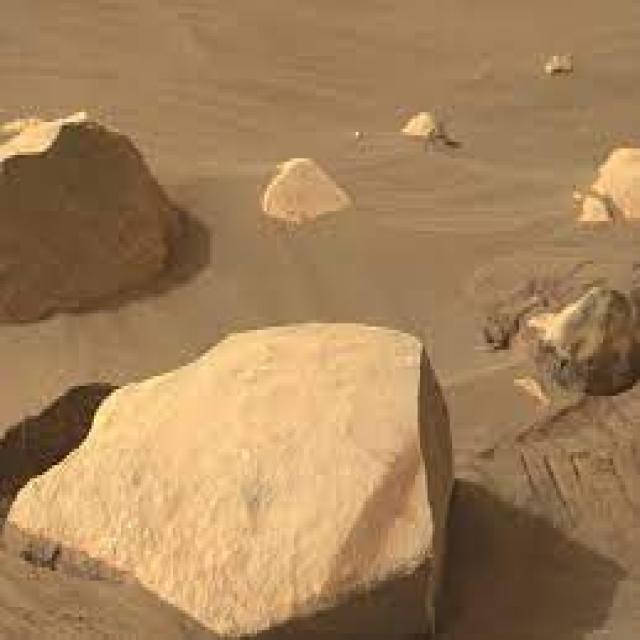red-sand: (0, 0, 638, 637)
stone: (0, 323, 452, 637), (0, 112, 185, 320), (509, 287, 638, 406), (262, 158, 351, 221), (578, 148, 638, 221), (400, 112, 457, 145)
